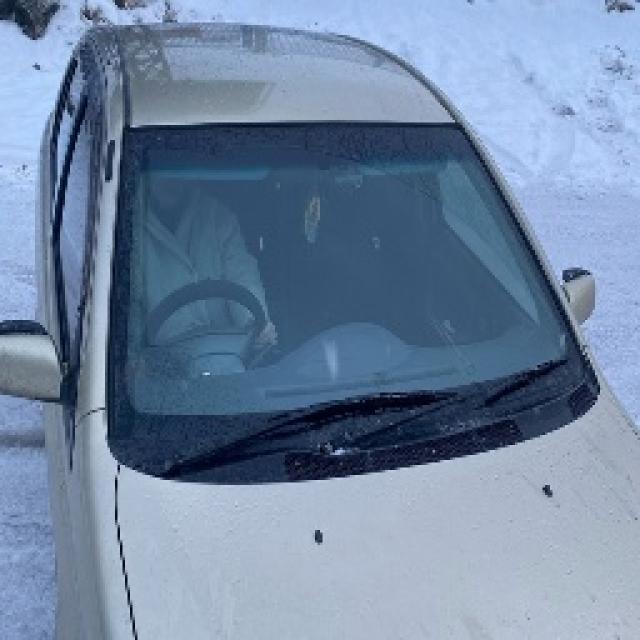windshield: (99, 121, 607, 485)
